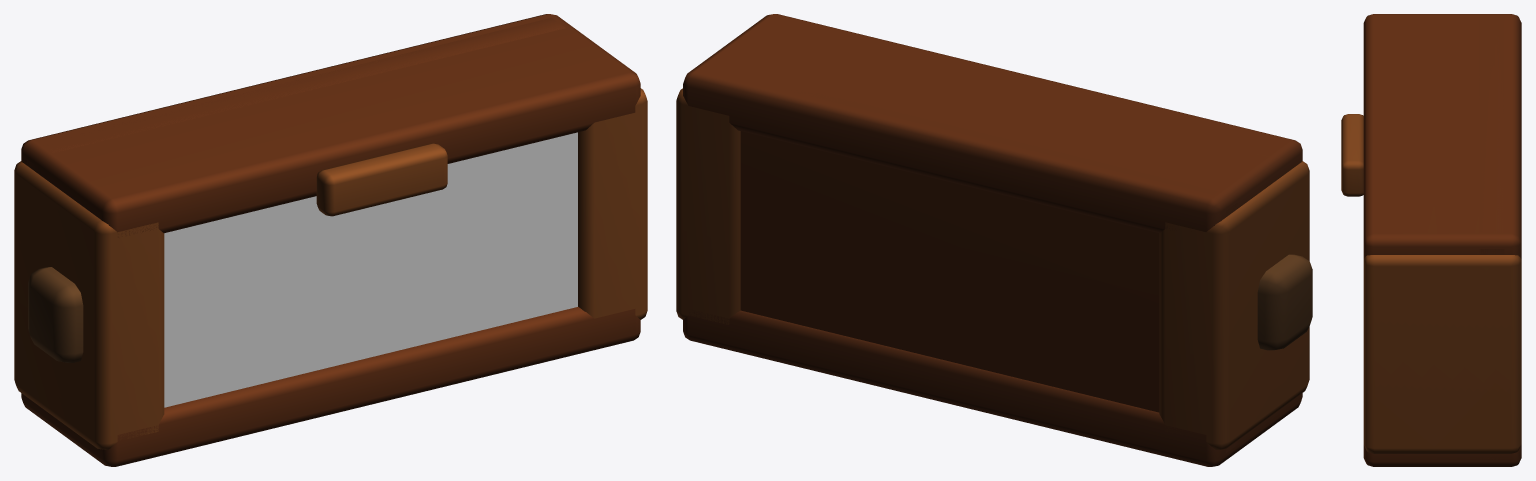
Rendered from queen_cage.fbx.
3 views of the same model, side by side, from view 1: azimuth 30°, elevation 25°; view 2: azimuth 150°, elevation 25°; view 3: azimuth 270°, elevation 25° (orthographic). The views are drawn at different scales.
Visible parts, largest first — view 1: Queen Cage Parts, Cork plug; view 2: Queen Cage Parts, Cork plug; view 3: Queen Cage Parts.
Boxes of the visible parts, x1,y1,x2,y2 form: Queen Cage Parts: (14,14,647,466); Cork plug: (28,267,83,362); Queen Cage Parts: (676,14,1309,466); Cork plug: (1257,254,1312,350); Queen Cage Parts: (1341,14,1521,466).
Size of the model in its own units: 0.1165 by 0.052 by 0.0365.
